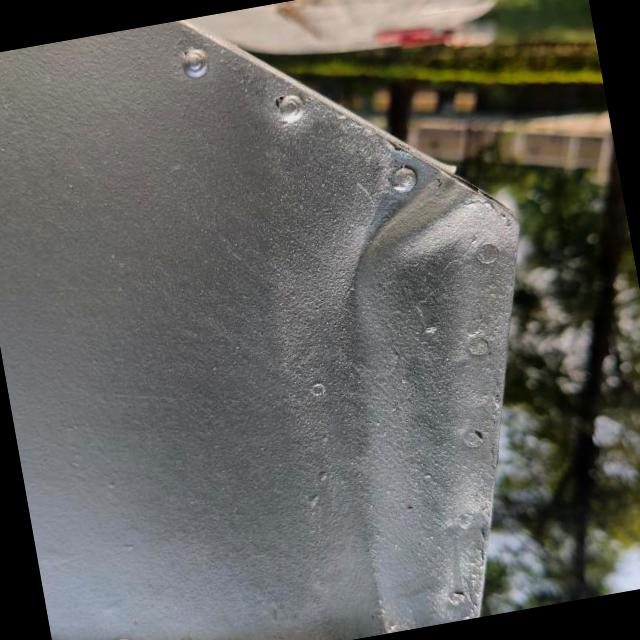dent: (300, 139, 528, 335)
